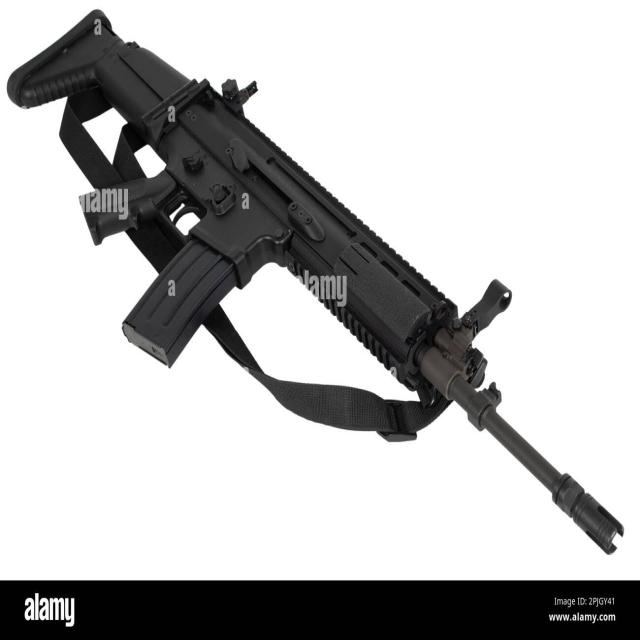Gun: (25, 21, 640, 572)
